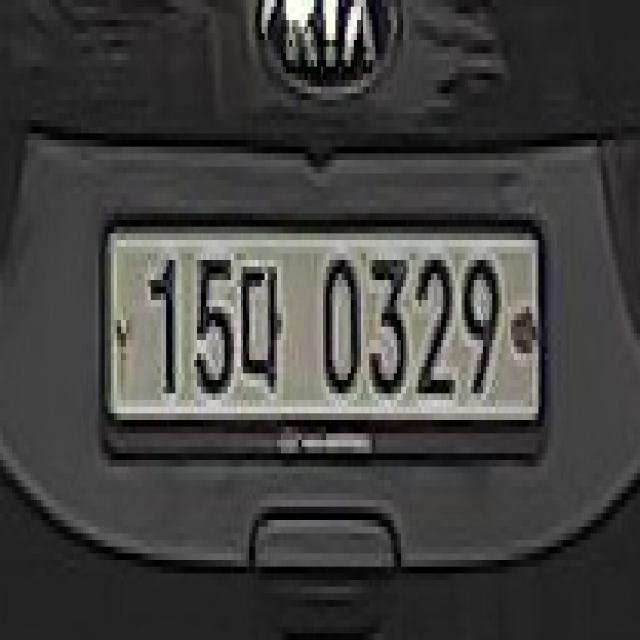0: (320, 240, 366, 407)
1: (148, 240, 185, 413)
2: (416, 246, 458, 406)
3: (366, 240, 416, 407)
5: (188, 240, 240, 413)
9: (458, 240, 508, 407)
da: (240, 247, 292, 400)
license_plate: (92, 200, 554, 473)
